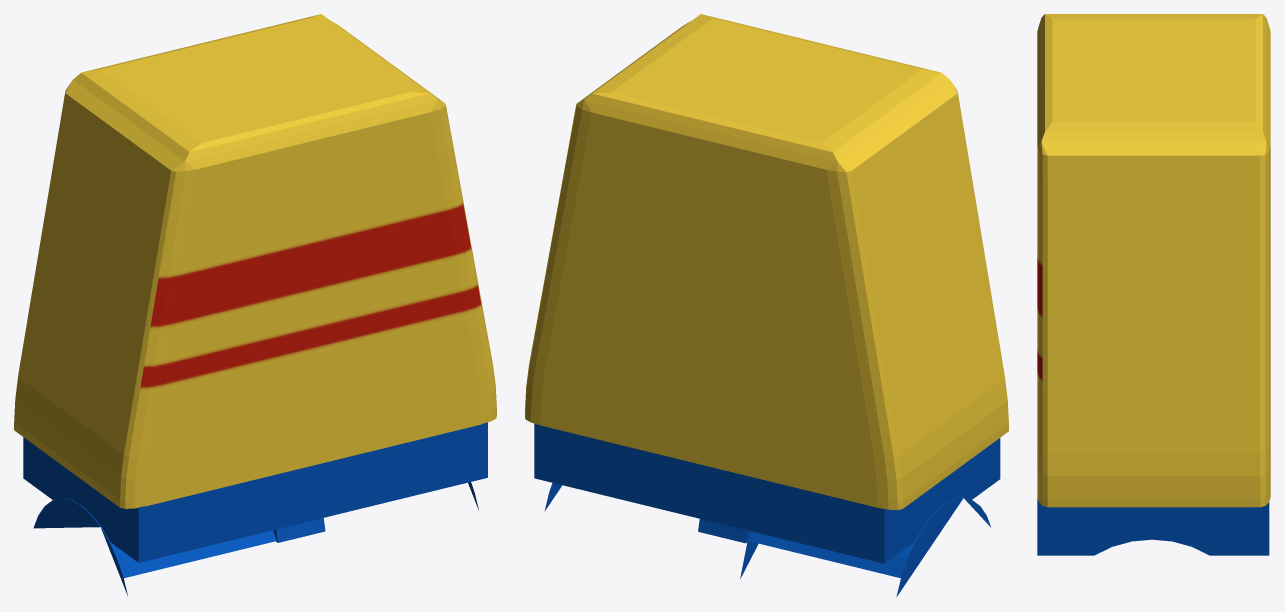
File: torso.glb
3 renders of one model, left to right at view 1: azimuth 30°, elevation 25°; view 2: azimuth 150°, elevation 25°; view 3: azimuth 270°, elevation 25°, orthographic.
Parts seen in each view (by area): view 1: pip_torso; view 2: pip_torso; view 3: pip_torso.
Part boxes in pixels (box(x1,y1,x2,y2)): pip_torso: box(14, 14, 496, 595); pip_torso: box(525, 14, 1008, 597); pip_torso: box(1037, 14, 1270, 555).
Size of the model in its own units: 0.6858 by 0.7937 by 0.3654.
Materials: 3 (1 with a texture image).
